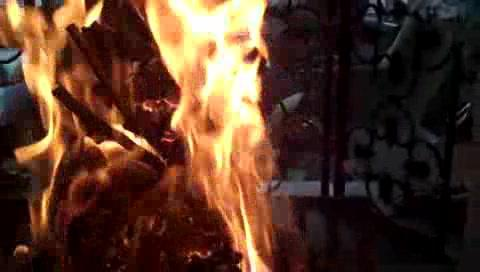fire: (12, 7, 114, 175), (153, 5, 266, 156), (208, 164, 271, 261)
